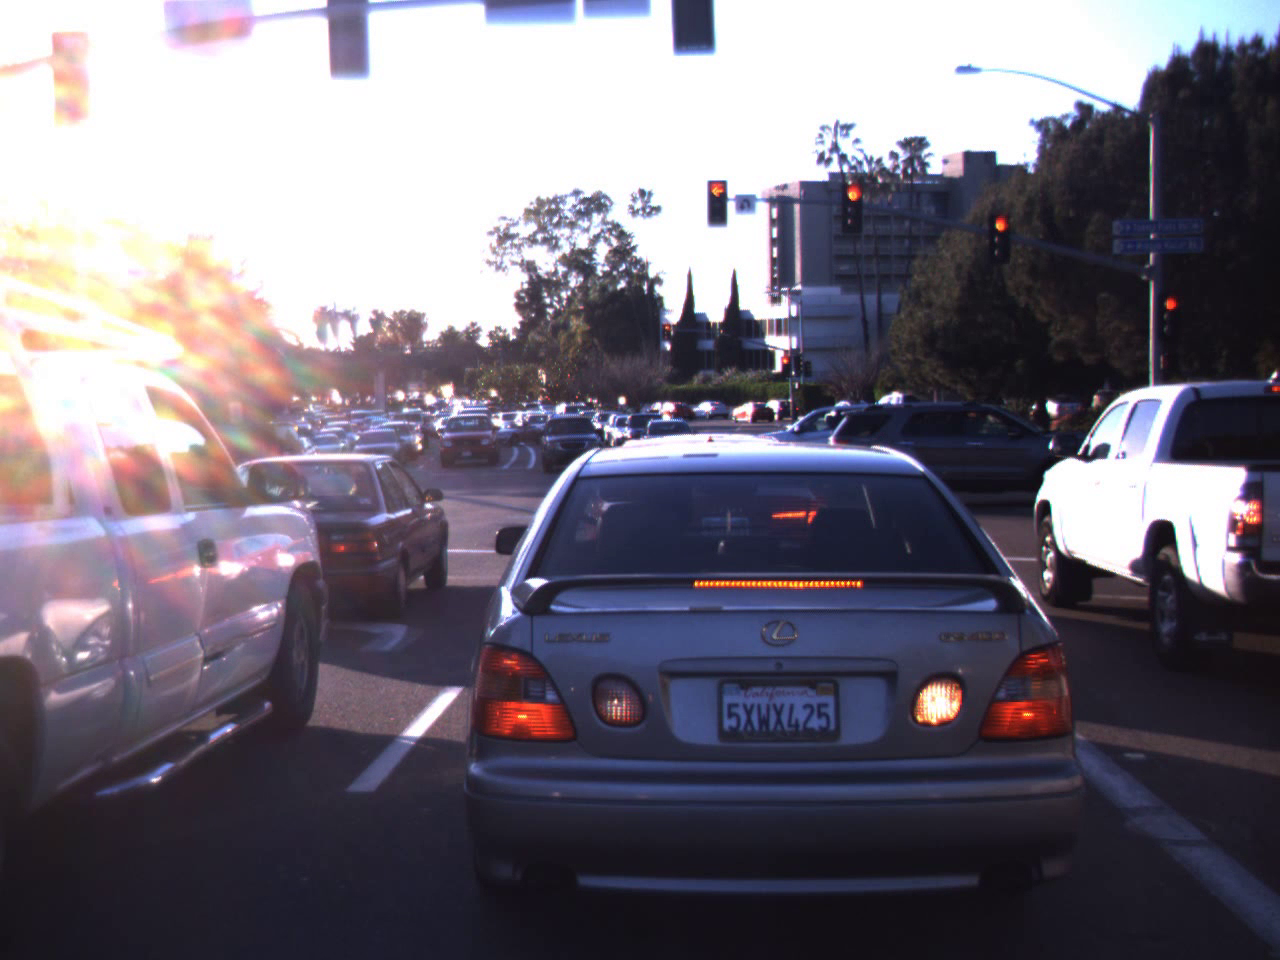Traffic_Light_stop: (986, 206, 1013, 269), (844, 182, 867, 241), (708, 179, 729, 230)
